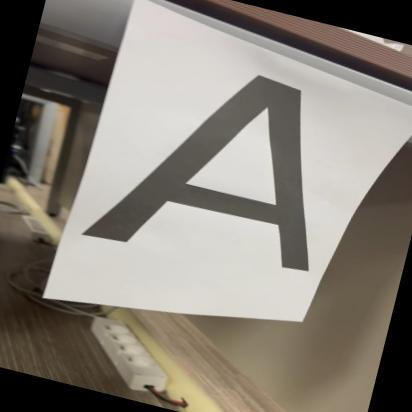seat: (76, 33, 368, 298)
